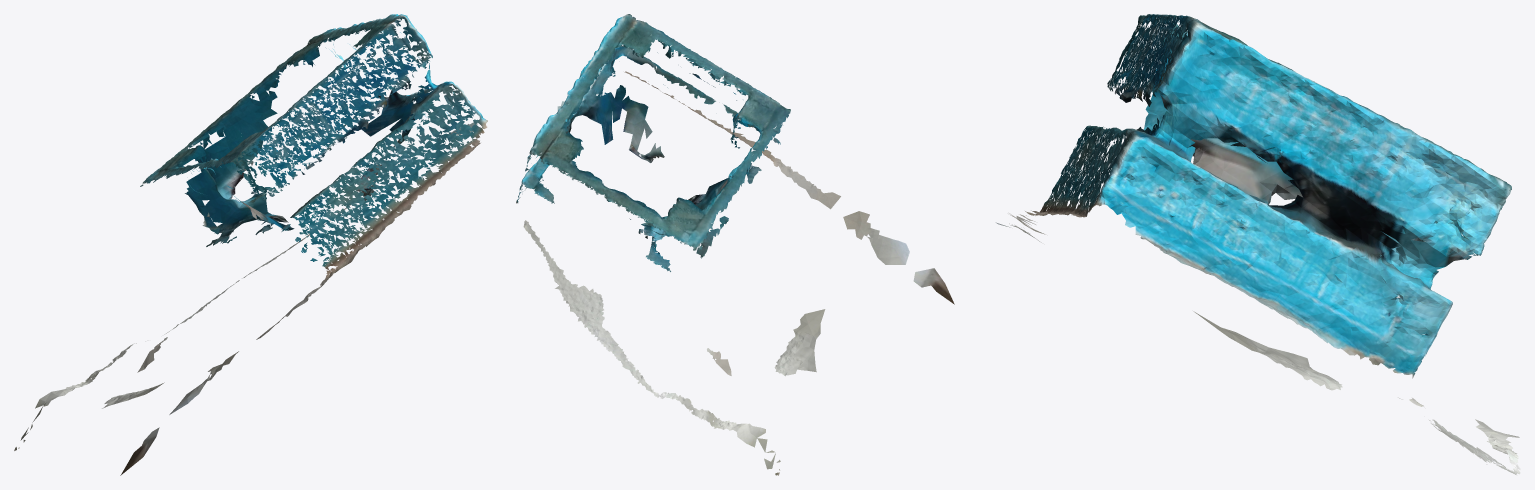
Rendered from prac1.glb.
3 views of the same model, side by side, from view 1: azimuth 30°, elevation 25°; view 2: azimuth 150°, elevation 25°; view 3: azimuth 270°, elevation 25° (orthographic). The views are drawn at different scales.
Bounding box in the file's own units: 11.33 × 11.07 × 8.14.
Materials: 1 (1 with a texture image).
